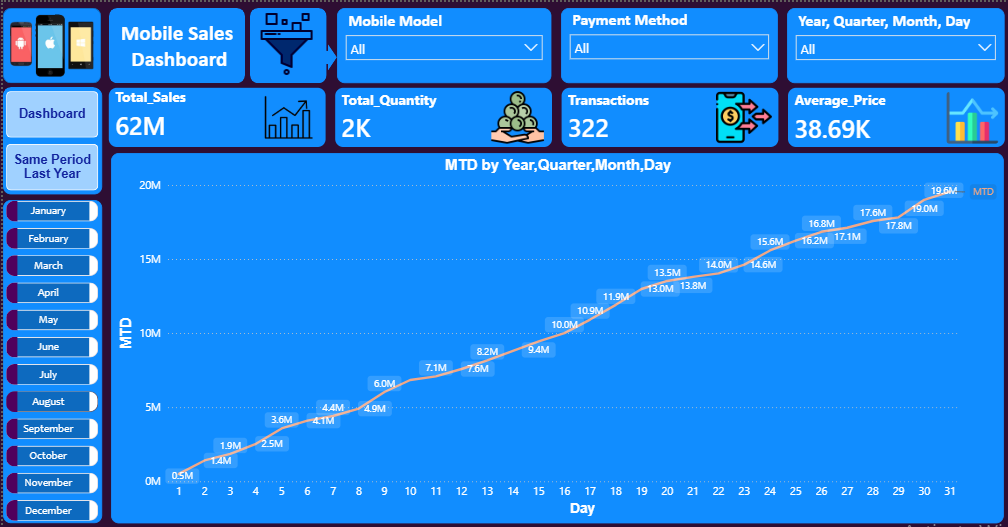

What the dashboard file says about the page in this screenshot:
{"tool":"powerbi","page":{"name":"MTD Reports","canvas":[1280,720],"ordinal":1},"visuals":[{"type":"shape","box":[0,7.5,122.5,94.2],"z":0},{"type":"image","box":[5,12.5,110,83.8],"z":1000},{"type":"shape","box":[0,106.7,122.5,132.5],"z":2000},{"type":"cardVisual","fields":{"Data":["Sales_Data.Total_Sales","Sales_Data.Total_Quantity","Sales_Data.Transactions","Sales_Data.Average_Price"]},"box":[106.7,81.3,1173.3,126.7],"z":3000},{"type":"slicer","fields":{"Values":["Sales_Data.Mobile Model"]},"box":[417.5,7.5,267.5,94.2],"z":4000},{"type":"slicer","fields":{"Values":["Custom_Calendar.Date.Variation.Date Hierarchy.Year","Custom_Calendar.Date.Variation.Date Hierarchy.Quarter","Custom_Calendar.Date.Variation.Date Hierarchy.Month","Custom_Calendar.Date.Variation.Date Hierarchy.Day"]},"box":[980,7.5,272,93.8],"z":5000},{"type":"slicer","fields":{"Values":["Sales_Data.Payment Method"]},"box":[697,7.5,271,93.8],"z":6000},{"type":"shape","box":[309.2,7.5,95.8,94.2],"z":7000},{"type":"image","box":[302.5,12.5,103.8,80],"z":8000},{"type":"shape","box":[395,52.5,22.5,33.3],"z":9000},{"type":"shape","box":[132.5,7.5,170,94.2],"z":10000},{"type":"textbox","box":[135,17.5,165,75],"z":11000},{"type":"lineChart","title":"MTD by Year,Quarter,Month,Day","fields":{"Y":["Sales_Data.MTD"],"Category":["Custom_Calendar.Date.Variation.Date Hierarchy.Year","Custom_Calendar.Date.Variation.Date Hierarchy.Quarter","Custom_Calendar.Date.Variation.Date Hierarchy.Month","Custom_Calendar.Date.Variation.Date Hierarchy.Day"]},"box":[135,188.8,1116,462.5],"z":12000},{"type":"advancedSlicerVisual","fields":{"Values":["Custom_Calendar.Date.Variation.Date Hierarchy.Month"]},"box":[0,247.5,123.8,403.8],"z":13000},{"type":"pageNavigator","box":[0,107.5,123.8,132.5],"z":13001}]}

Visuals, with their boxes on the page's 1280x720 design canvas (x1, y1, x2, y2). These are canvas units, not pixel positions in the 1008x527 screenshot, which may show the page scaled, cropped or inside an application window:
shape: <bbox>0, 8, 122, 102</bbox>
image: <bbox>5, 12, 115, 96</bbox>
shape: <bbox>0, 107, 122, 239</bbox>
cardVisual - Sales_Data.Total_Sales x Sales_Data.Total_Quantity: <bbox>107, 81, 1280, 208</bbox>
slicer - Sales_Data.Mobile Model: <bbox>418, 8, 685, 102</bbox>
slicer - Custom_Calendar.Date.Variation.Date Hierarchy.Year x Custom_Calendar.Date.Variation.Date Hierarchy.Quarter: <bbox>980, 8, 1252, 101</bbox>
slicer - Sales_Data.Payment Method: <bbox>697, 8, 968, 101</bbox>
shape: <bbox>309, 8, 405, 102</bbox>
image: <bbox>302, 12, 406, 92</bbox>
shape: <bbox>395, 52, 418, 86</bbox>
shape: <bbox>132, 8, 302, 102</bbox>
textbox: <bbox>135, 18, 300, 92</bbox>
"MTD by Year,Quarter,Month,Day" lineChart: <bbox>135, 189, 1251, 651</bbox>
advancedSlicerVisual - Custom_Calendar.Date.Variation.Date Hierarchy.Month: <bbox>0, 248, 124, 651</bbox>
pageNavigator: <bbox>0, 108, 124, 240</bbox>
